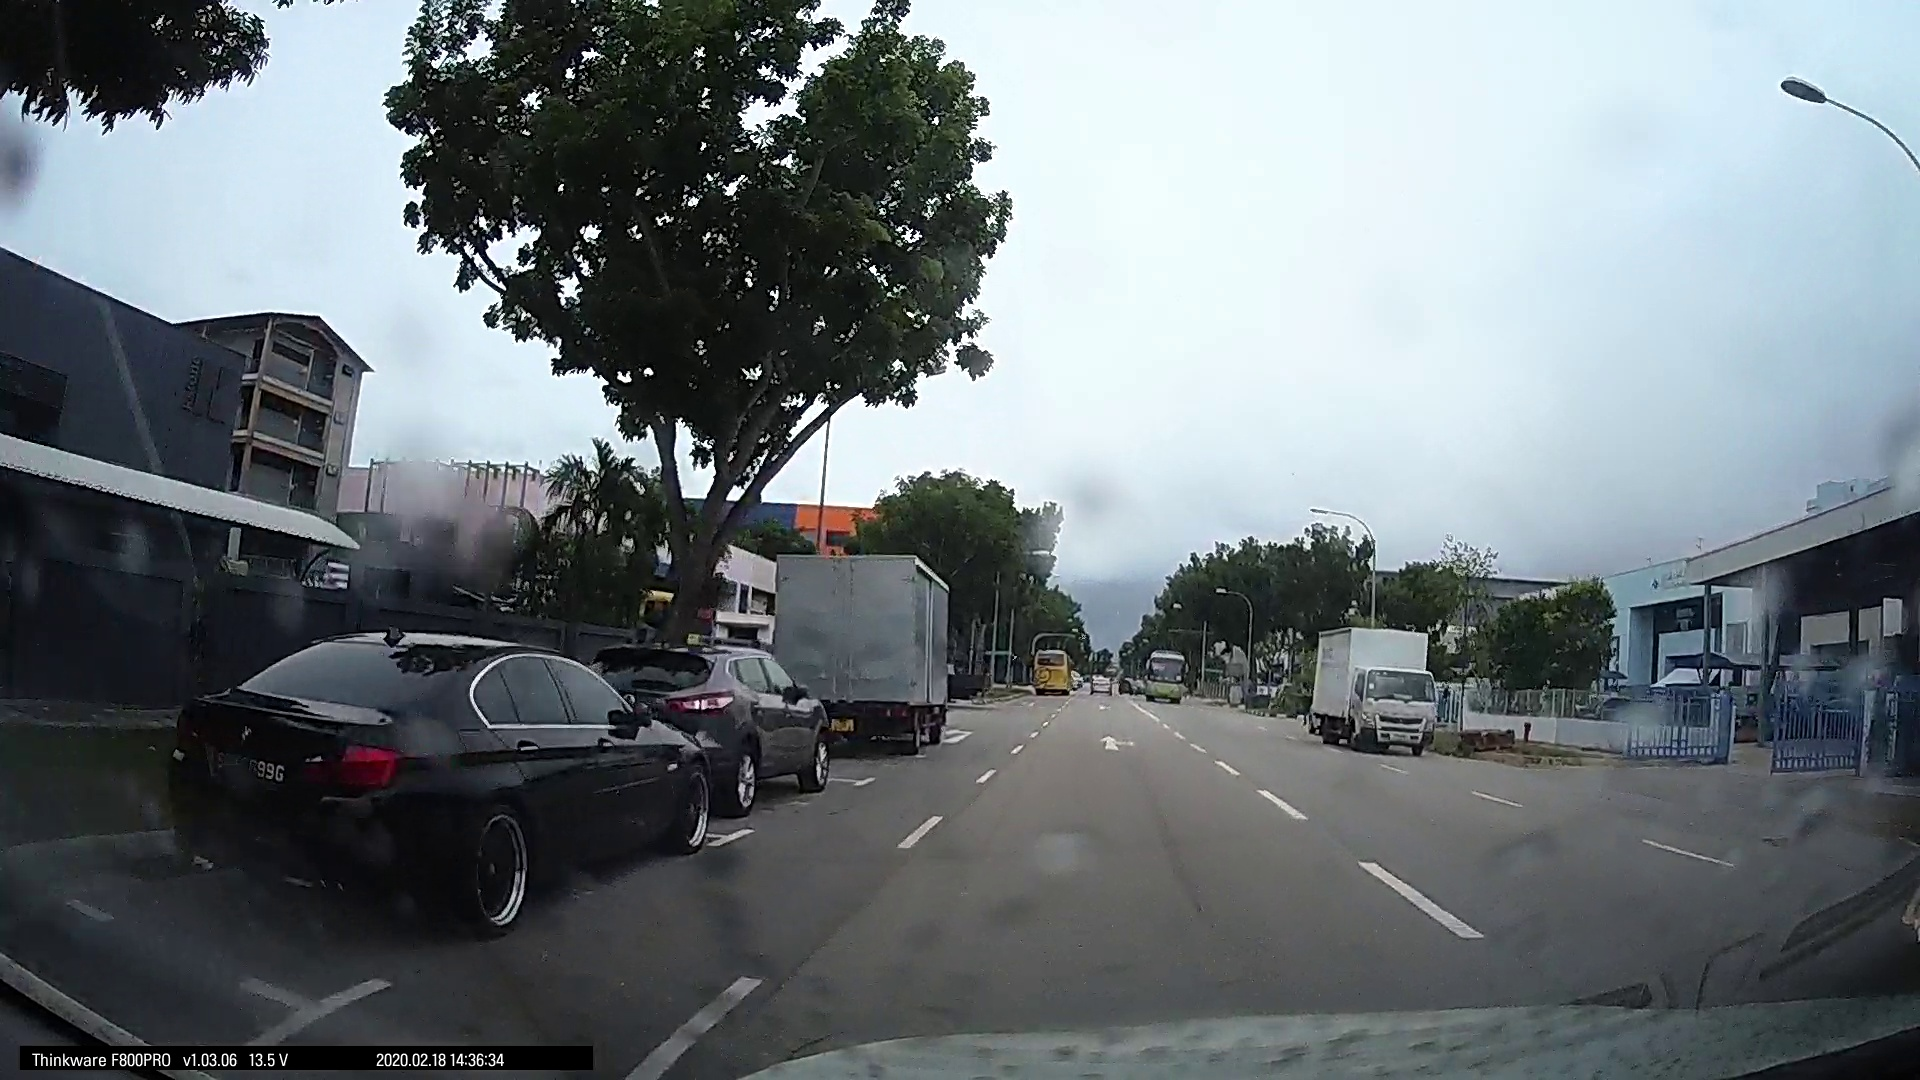Heavy Vehicle: (775, 549, 957, 760), (1302, 622, 1437, 756)
Light Vehicle: (164, 620, 713, 924), (632, 638, 831, 808), (1135, 650, 1188, 702), (1027, 644, 1077, 695)
